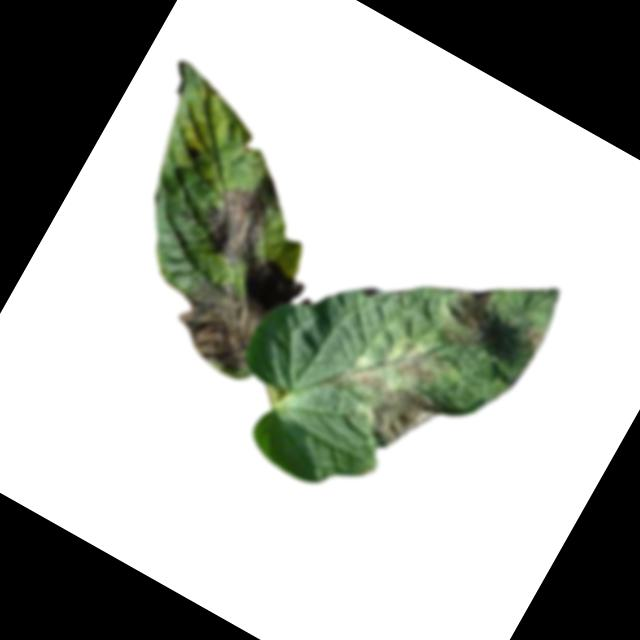Late_blight: (164, 233, 309, 389), (327, 356, 446, 464), (190, 177, 279, 272), (383, 333, 451, 396), (440, 274, 501, 337), (515, 319, 549, 353)
